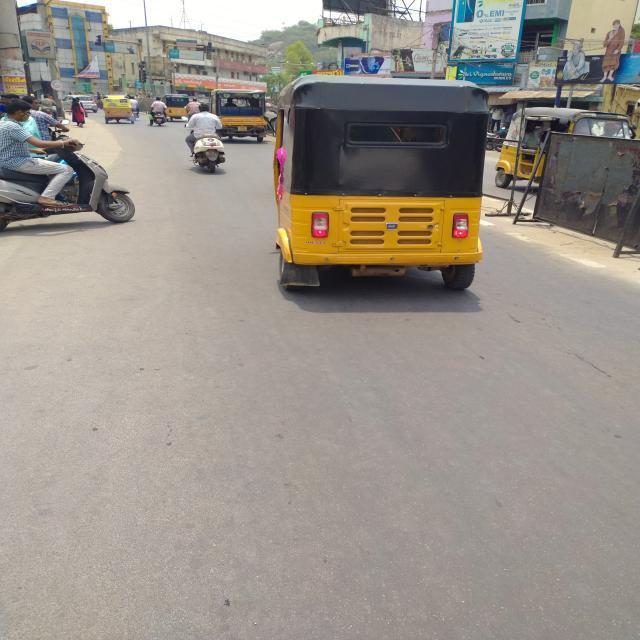auto_back: (258, 72, 502, 300), (100, 90, 137, 128), (163, 89, 194, 123)
auto_front: (492, 94, 636, 192)
two_wheeler_back: (177, 112, 234, 174)
